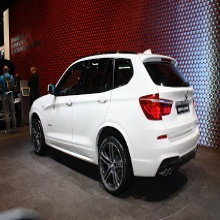no damage: (28, 52, 201, 198)
